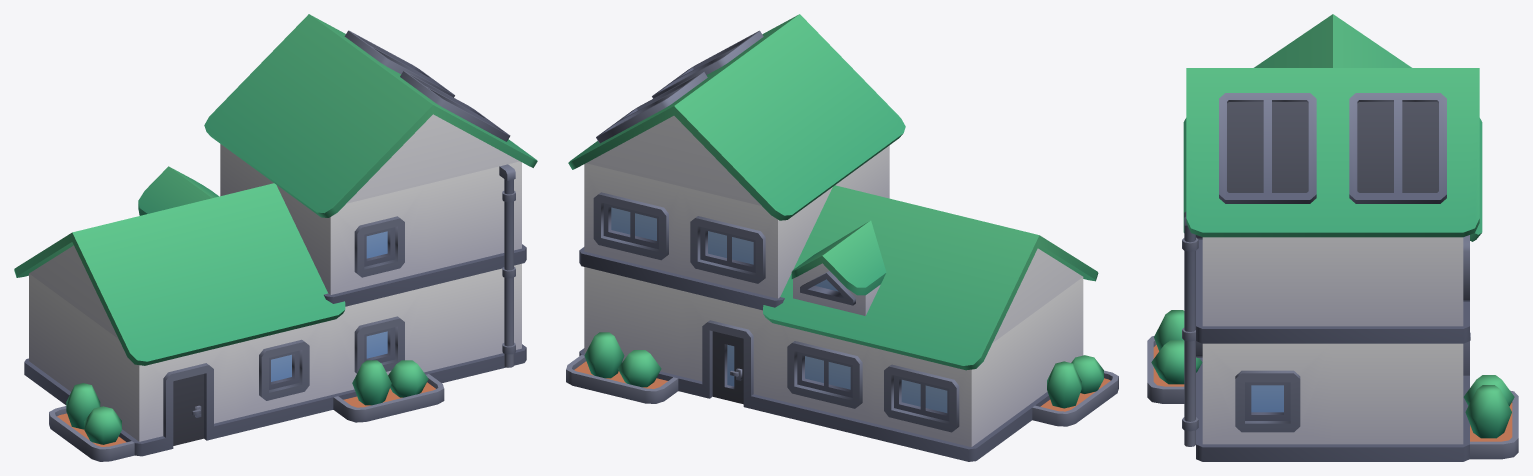
Rendered from house-b.glb.
3 renders of one model, left to right at view 1: azimuth 30°, elevation 25°; view 2: azimuth 150°, elevation 25°; view 3: azimuth 270°, elevation 25°, orthographic. The views are drawn at different scales.
Parts seen in each view (by area): view 1: house-b; view 2: house-b; view 3: house-b.
Boxes of the visible parts, left/top/right/bottom form: house-b: left=14, top=14, right=537, bottom=461; house-b: left=566, top=14, right=1118, bottom=461; house-b: left=1147, top=14, right=1518, bottom=461.
Bounding box in the file's own units: 1.83 × 1.14 × 1.14.
